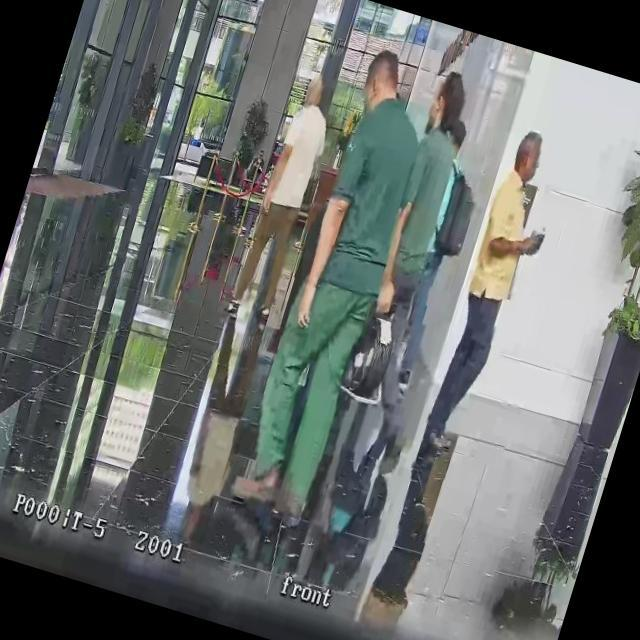person: (226, 43, 462, 536), (316, 68, 512, 496), (412, 126, 572, 483), (226, 67, 346, 324), (241, 148, 268, 198), (190, 118, 207, 146)
